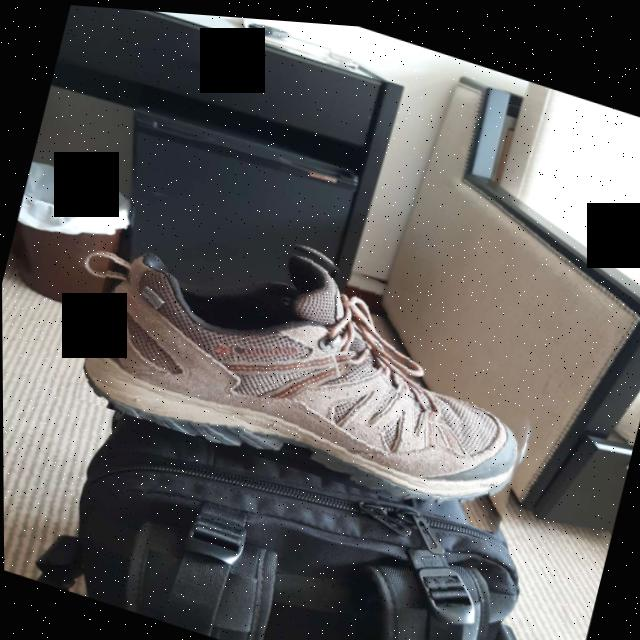shoe: (73, 179, 560, 532)
